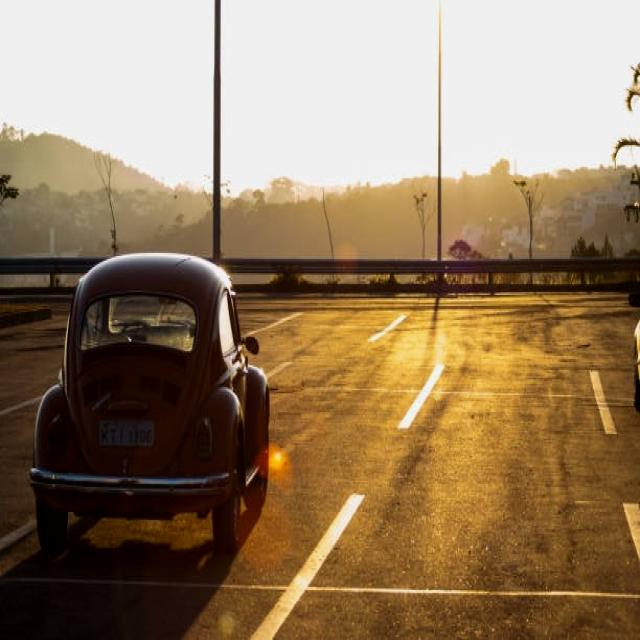car: (23, 251, 274, 550)
